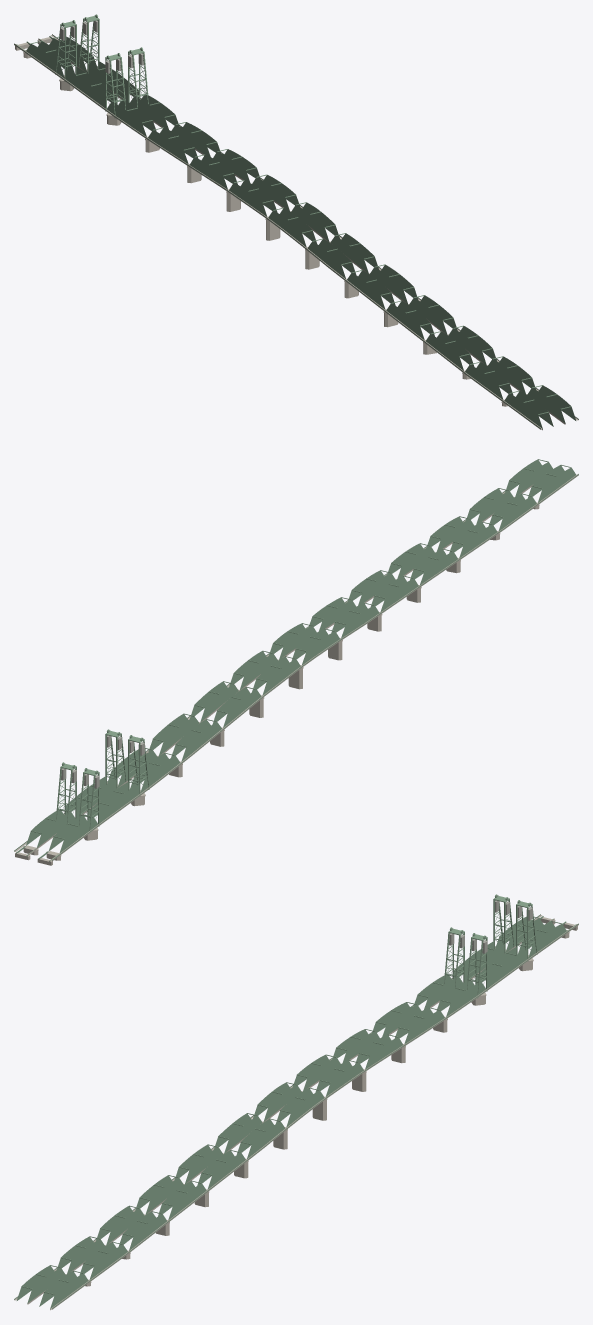
The model's file is pdx-interstate-bridge.glb.
The picture shows the model from 3 angles, top to bottom: view 1: azimuth 30°, elevation 25°; view 2: azimuth 150°, elevation 25°; view 3: azimuth 330°, elevation 25°; orthographic projection.
Visible parts, largest first — view 1: Interstate Bridge; view 2: Interstate Bridge; view 3: Interstate Bridge.
Boxes of the visible parts, x1=… form: Interstate Bridge: x1=14, y1=14, x2=578, y2=430; Interstate Bridge: x1=14, y1=459, x2=578, y2=865; Interstate Bridge: x1=14, y1=894, x2=578, y2=1310.
Bounding box in the file's own units: 44.7 × 75.4 × 1073.
